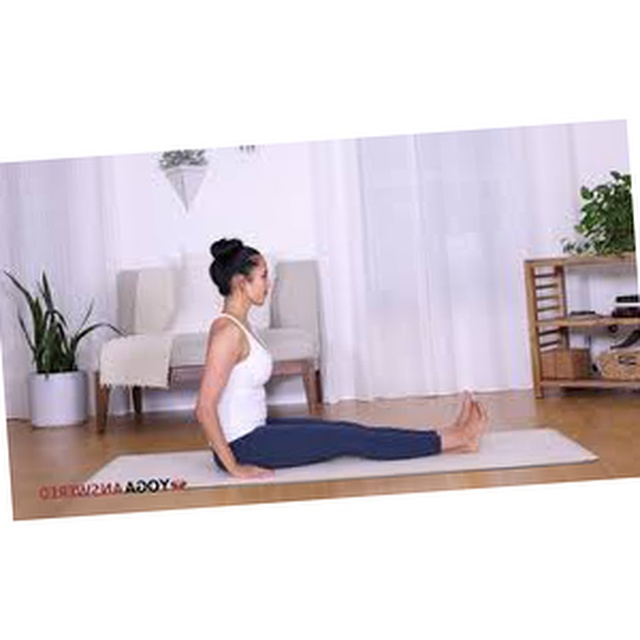Staff_Pose: (193, 236, 489, 480)
